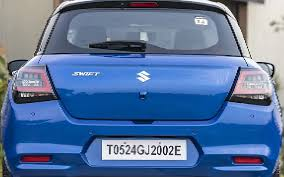Swift: (2, 2, 283, 176)
